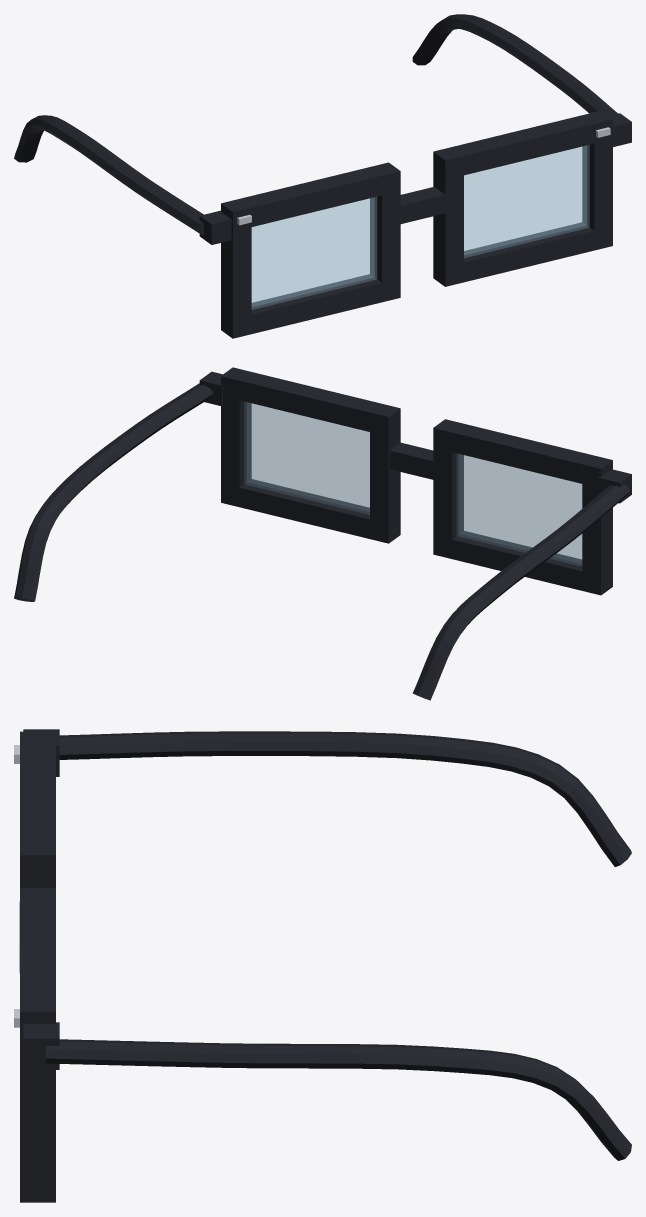
Rendered from oculos_quadrado.obj.
3 renders of one model, top to bottom at view 1: azimuth 30°, elevation 25°; view 2: azimuth 150°, elevation 25°; view 3: azimuth 270°, elevation 25°, orthographic. The views are drawn at different scales.
Parts seen in each view (by area): view 1: Oculos_Quadrado; view 2: Oculos_Quadrado; view 3: Oculos_Quadrado.
Part boxes in pixels (x1=…): Oculos_Quadrado: x1=14, y1=14, x2=631, y2=338; Oculos_Quadrado: x1=14, y1=367, x2=631, y2=700; Oculos_Quadrado: x1=14, y1=729, x2=631, y2=1202.
Bounding box in the file's own units: 0.8992 × 0.245 × 0.7185.
